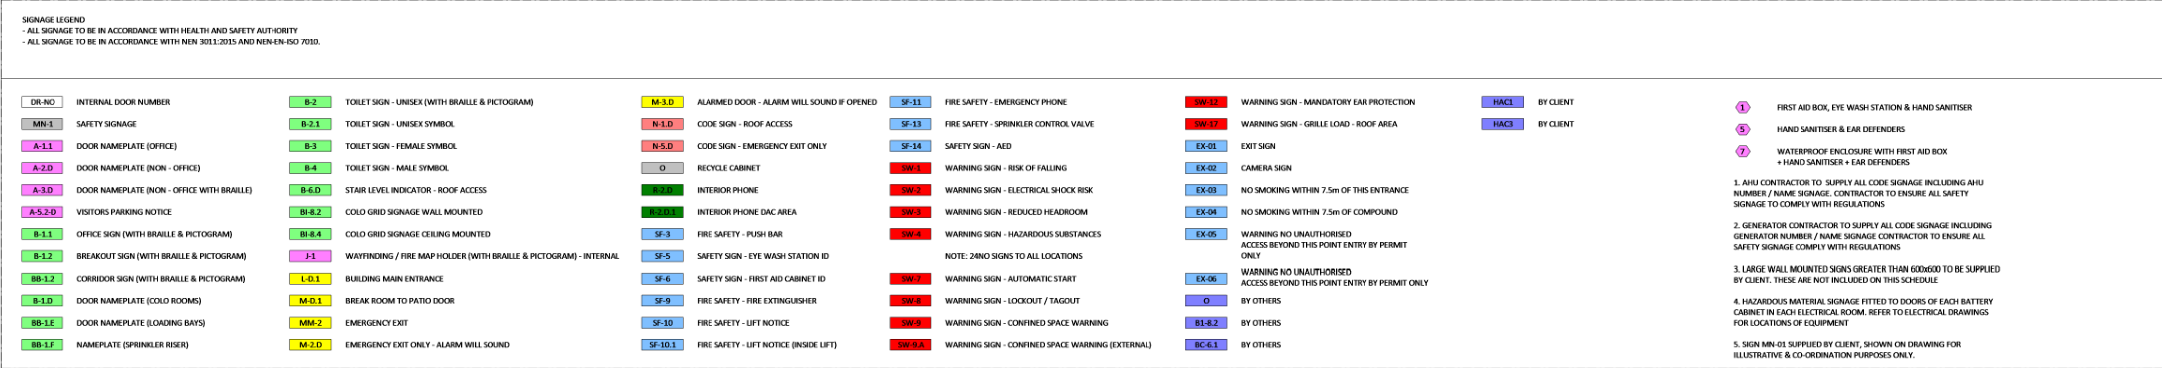hatch: (633, 92, 689, 110), (284, 269, 332, 288), (284, 225, 335, 243), (636, 136, 687, 154), (636, 159, 687, 176), (285, 91, 332, 110), (1184, 181, 1230, 200), (287, 114, 334, 132), (1183, 159, 1230, 176), (889, 135, 932, 154), (281, 292, 331, 309), (285, 314, 335, 331), (19, 247, 65, 265), (288, 204, 334, 222), (640, 114, 685, 132), (640, 181, 685, 198), (1183, 138, 1231, 154), (1182, 203, 1230, 219), (640, 201, 684, 219), (18, 226, 65, 243), (287, 159, 334, 175), (287, 182, 334, 198), (887, 314, 933, 331), (1180, 227, 1231, 243), (21, 159, 63, 176), (640, 225, 685, 241), (1184, 336, 1230, 353), (1478, 116, 1528, 131), (18, 204, 65, 219), (18, 272, 65, 287), (889, 160, 932, 176), (889, 272, 932, 288), (640, 248, 685, 263), (1182, 95, 1227, 110), (1183, 116, 1229, 131), (287, 338, 336, 351), (21, 116, 65, 131), (21, 139, 65, 154), (21, 314, 65, 329), (643, 291, 683, 307), (21, 183, 63, 198), (19, 294, 66, 307), (287, 139, 334, 153), (18, 339, 69, 351), (887, 116, 932, 130), (284, 249, 334, 262), (640, 338, 684, 351), (889, 182, 933, 196), (1477, 95, 1525, 108), (18, 95, 65, 108), (640, 316, 685, 328), (887, 227, 932, 240), (889, 205, 929, 219), (641, 273, 685, 285), (889, 95, 933, 108), (889, 338, 933, 350), (1184, 273, 1229, 285), (1732, 119, 1758, 138), (1183, 318, 1227, 329), (1184, 294, 1227, 305), (1733, 96, 1757, 116), (1729, 141, 1752, 160), (889, 295, 932, 305)
label: (1235, 226, 1409, 260), (339, 245, 625, 266), (1770, 142, 1954, 171), (1237, 265, 1431, 289), (1237, 91, 1424, 110), (695, 92, 881, 110), (942, 338, 1160, 353), (1234, 114, 1405, 134), (342, 335, 523, 353), (339, 200, 485, 222), (943, 179, 1099, 200), (1773, 101, 1979, 116), (938, 223, 1111, 241), (942, 311, 1115, 329), (1237, 182, 1409, 200), (935, 267, 1082, 288), (939, 116, 1103, 134), (1235, 205, 1404, 222), (691, 269, 831, 288), (692, 335, 842, 353), (940, 91, 1077, 110), (338, 226, 496, 243), (72, 226, 243, 241), (70, 182, 258, 196), (936, 292, 1091, 309), (940, 203, 1092, 219), (694, 245, 833, 263), (936, 157, 1075, 175), (1770, 121, 1921, 138), (74, 273, 248, 287), (69, 249, 254, 262), (691, 135, 829, 152), (342, 96, 538, 108), (343, 159, 461, 176), (342, 269, 449, 288), (689, 292, 822, 307), (338, 183, 494, 196), (692, 203, 805, 219), (74, 338, 196, 353), (341, 138, 462, 153), (339, 292, 461, 307), (689, 314, 796, 331), (338, 116, 461, 130), (691, 225, 793, 241), (70, 161, 204, 174), (691, 116, 796, 131), (70, 204, 176, 218), (76, 295, 205, 306), (689, 182, 783, 197), (70, 141, 182, 153), (940, 136, 1023, 153), (70, 94, 174, 106), (74, 318, 207, 328), (339, 314, 415, 329), (1533, 112, 1582, 135), (72, 116, 146, 130), (1234, 161, 1299, 176), (695, 161, 768, 174), (1233, 338, 1289, 353), (1235, 314, 1289, 329), (1533, 94, 1583, 108), (1231, 295, 1289, 306), (1235, 136, 1281, 150)
